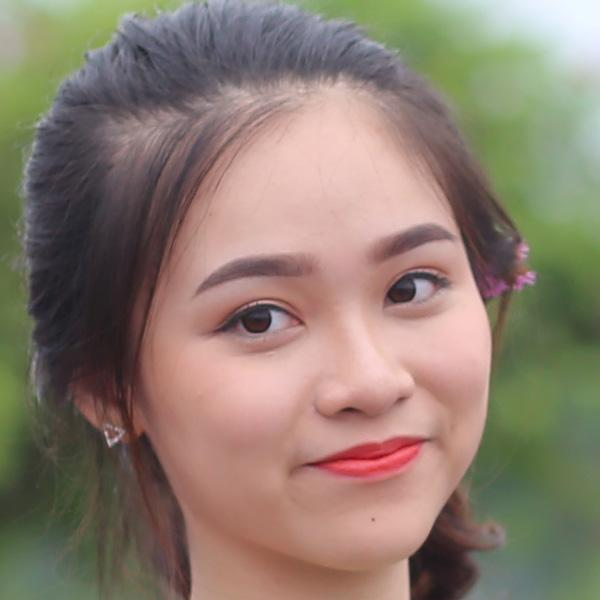Eyes: (202, 292, 316, 353), (375, 258, 459, 318)
